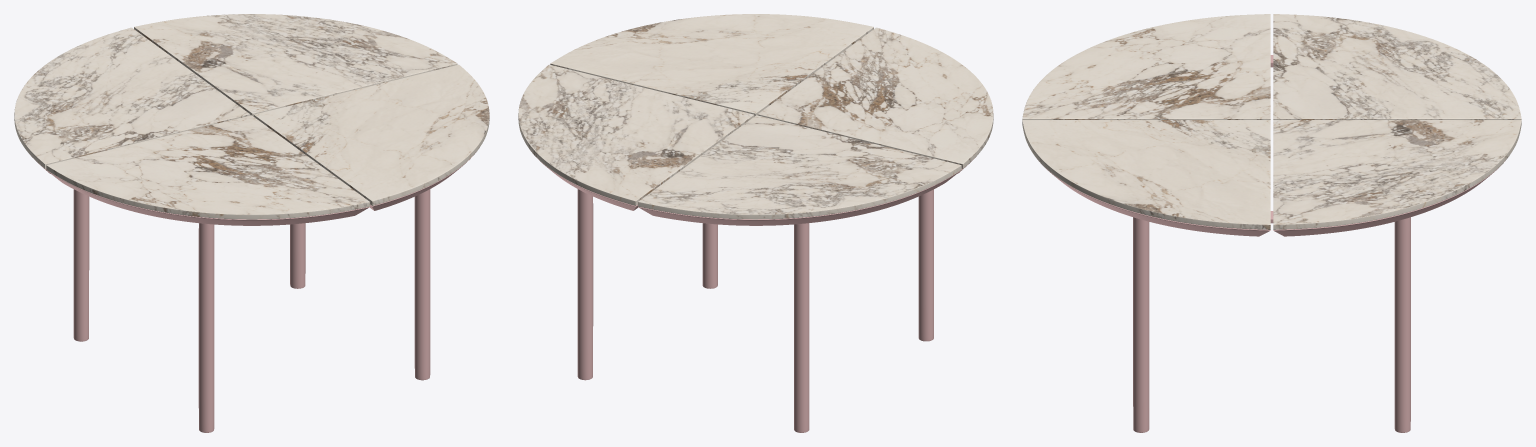
The model's file is SBH_Pizzaria_B.glb.
3 views of the same model, side by side, from view 1: azimuth 30°, elevation 25°; view 2: azimuth 150°, elevation 25°; view 3: azimuth 270°, elevation 25° (orthographic). The views are drawn at different scales.
Parts seen in each view (by area): view 1: Pizzaria_B; view 2: Pizzaria_B; view 3: Pizzaria_B.
Part boxes in pixels (x1,y1,x2,y2): Pizzaria_B: (14,14,489,432); Pizzaria_B: (518,14,993,432); Pizzaria_B: (1022,14,1521,432).
Size of the model in its own units: 0.793 by 0.4475 by 0.793.
Materials: 2 (1 with a texture image).
